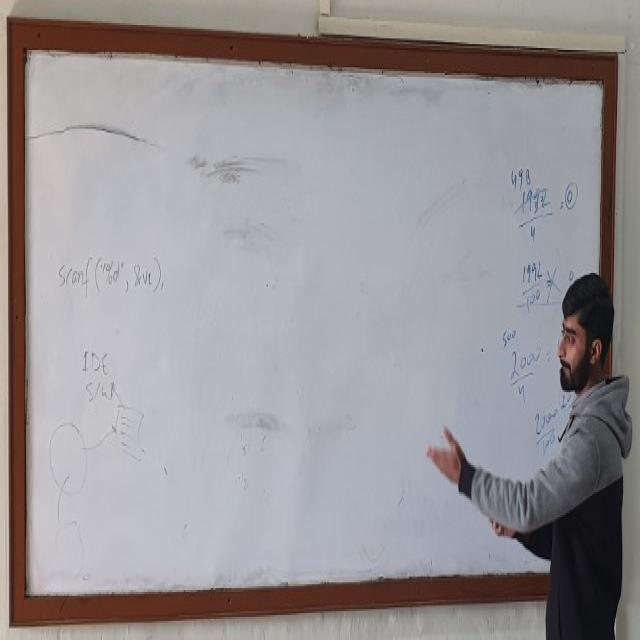Instructor: (520, 246, 640, 640)
White-board: (15, 32, 613, 612)
